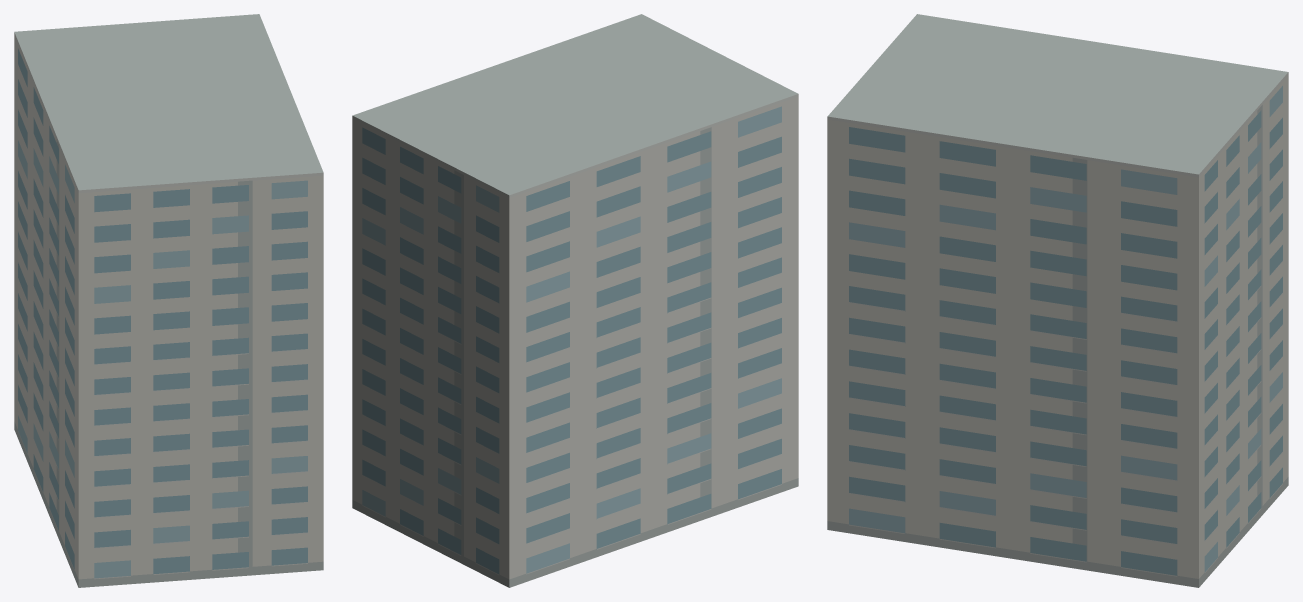
Rendered from residential-424ae9e4-f6b7-4aa2-ac15-0f16c2c32bfe.glb.
The picture shows the model from 3 angles, left to right: view 1: azimuth 30°, elevation 25°; view 2: azimuth 150°, elevation 25°; view 3: azimuth 270°, elevation 25°; orthographic projection. The views are drawn at different scales.
Visible parts, largest first — view 1: residential-424ae9e4-f6b7-4aa2-ac15-0f16c2c32bfe.tmp; view 2: residential-424ae9e4-f6b7-4aa2-ac15-0f16c2c32bfe.tmp; view 3: residential-424ae9e4-f6b7-4aa2-ac15-0f16c2c32bfe.tmp.
Boxes of the visible parts, <box> form: residential-424ae9e4-f6b7-4aa2-ac15-0f16c2c32bfe.tmp: <box>14,14,323,587</box>; residential-424ae9e4-f6b7-4aa2-ac15-0f16c2c32bfe.tmp: <box>352,14,798,587</box>; residential-424ae9e4-f6b7-4aa2-ac15-0f16c2c32bfe.tmp: <box>827,14,1288,587</box>.
Bounding box in the file's own units: 29.16 × 35 × 35.39.
